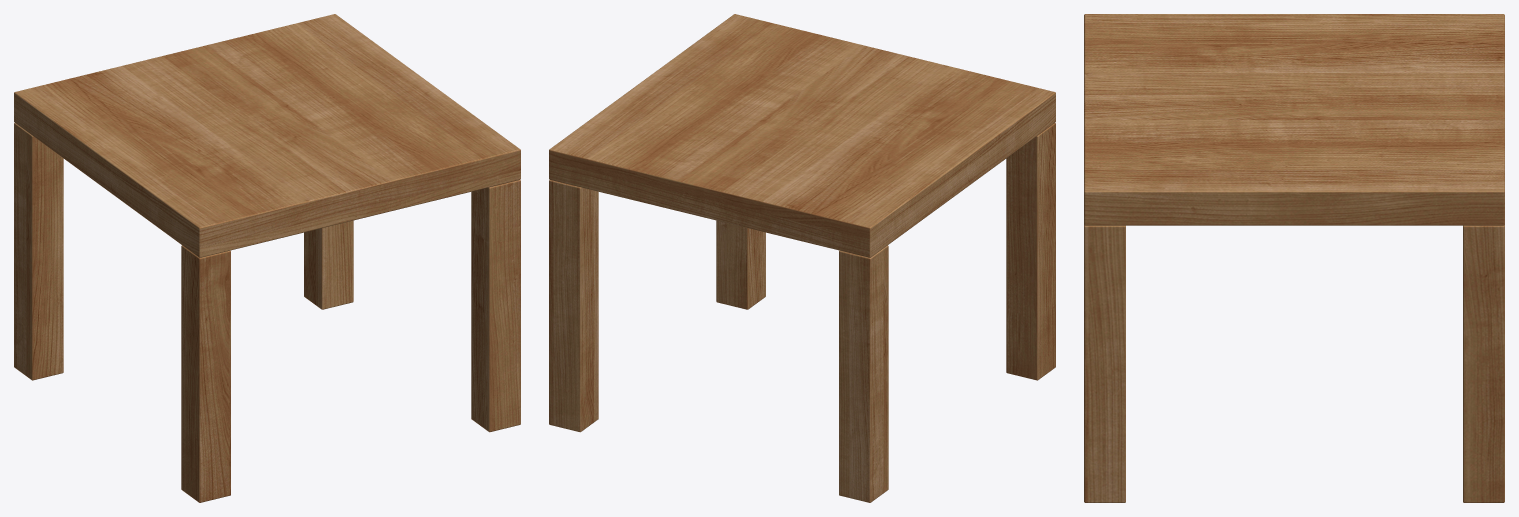
Rendered from ikea_lack_side_table_55x55x45.glb.
3 views of the same model, side by side, from view 1: azimuth 30°, elevation 25°; view 2: azimuth 150°, elevation 25°; view 3: azimuth 270°, elevation 25° (orthographic). The views are drawn at different scales.
Parts seen in each view (by area): view 1: IKEA Lack Side Table 55x55x45; view 2: IKEA Lack Side Table 55x55x45; view 3: IKEA Lack Side Table 55x55x45.
Boxes of the visible parts, bbox=[...] form: IKEA Lack Side Table 55x55x45: bbox=[14, 14, 520, 502]; IKEA Lack Side Table 55x55x45: bbox=[549, 14, 1055, 502]; IKEA Lack Side Table 55x55x45: bbox=[1084, 14, 1504, 502].
Bounding box in the file's own units: 0.55 × 0.45 × 0.55.
1 material, 1 textured.
